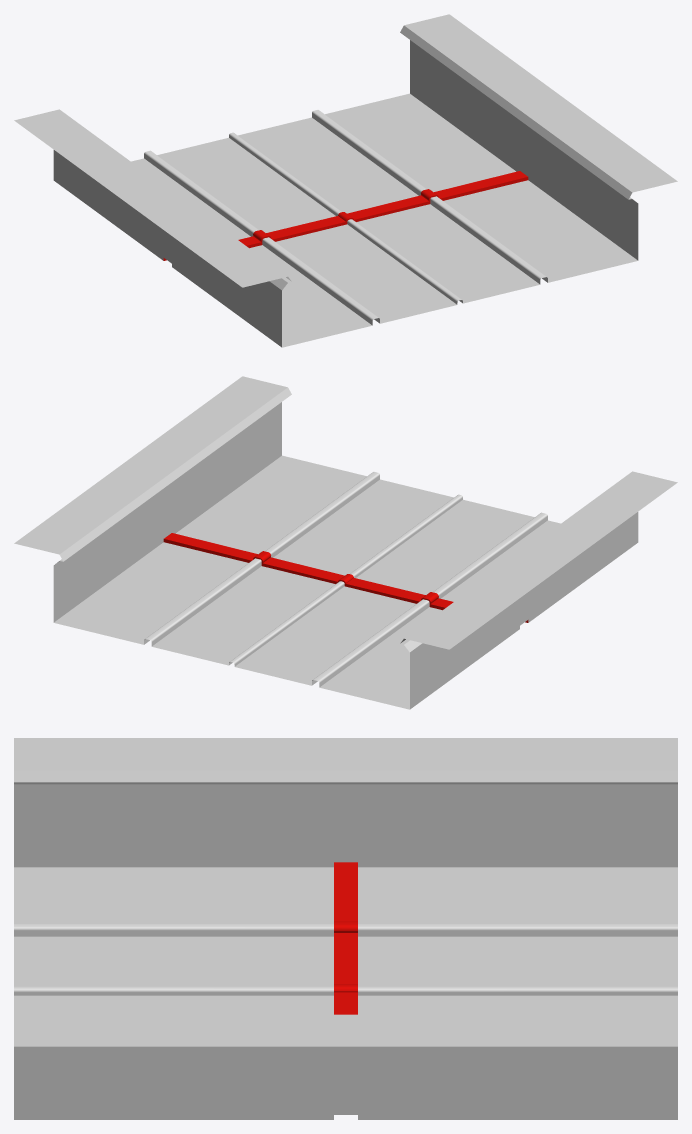
The model's file is Tracks Lowpoly.fbx.
3 views of the same model, one above another, from view 1: azimuth 30°, elevation 25°; view 2: azimuth 150°, elevation 25°; view 3: azimuth 270°, elevation 25° (orthographic). The views are drawn at different scales.
Parts seen in each view (by area): view 1: Train Tracks; view 2: Train Tracks; view 3: Train Tracks.
Part boxes in pixels (box(x1,y1,x2,y2)): Train Tracks: box(14, 14, 677, 347); Train Tracks: box(14, 376, 677, 709); Train Tracks: box(14, 738, 677, 1119).
Size of the model in its own units: 220 by 33.63 by 200.
